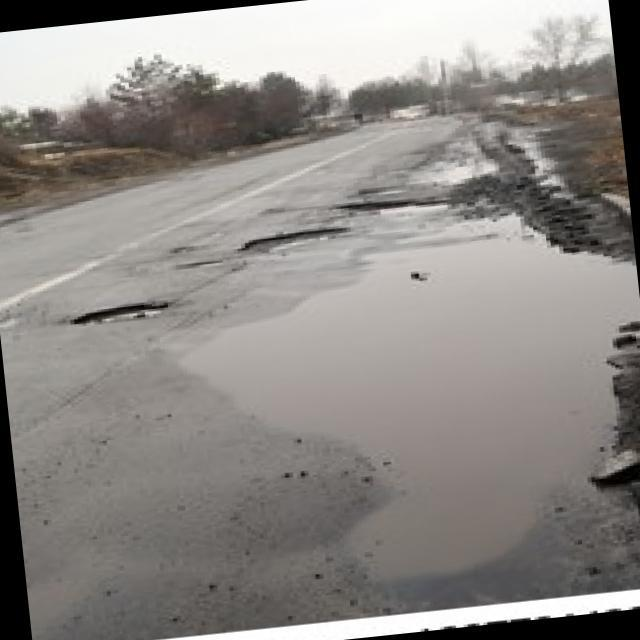Pothole: (336, 192, 452, 226), (236, 224, 352, 256), (65, 300, 169, 330), (346, 184, 406, 198), (179, 257, 227, 269), (169, 243, 193, 253)
